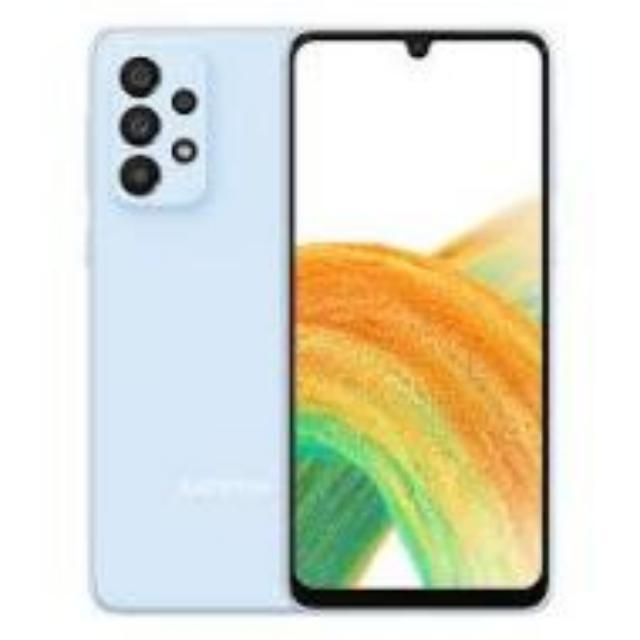phone: (285, 33, 548, 601), (92, 29, 288, 613)
